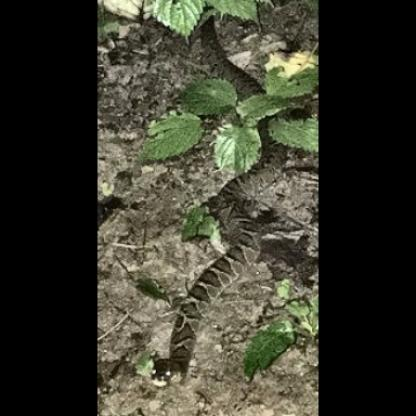Snake: (142, 149, 287, 392)
